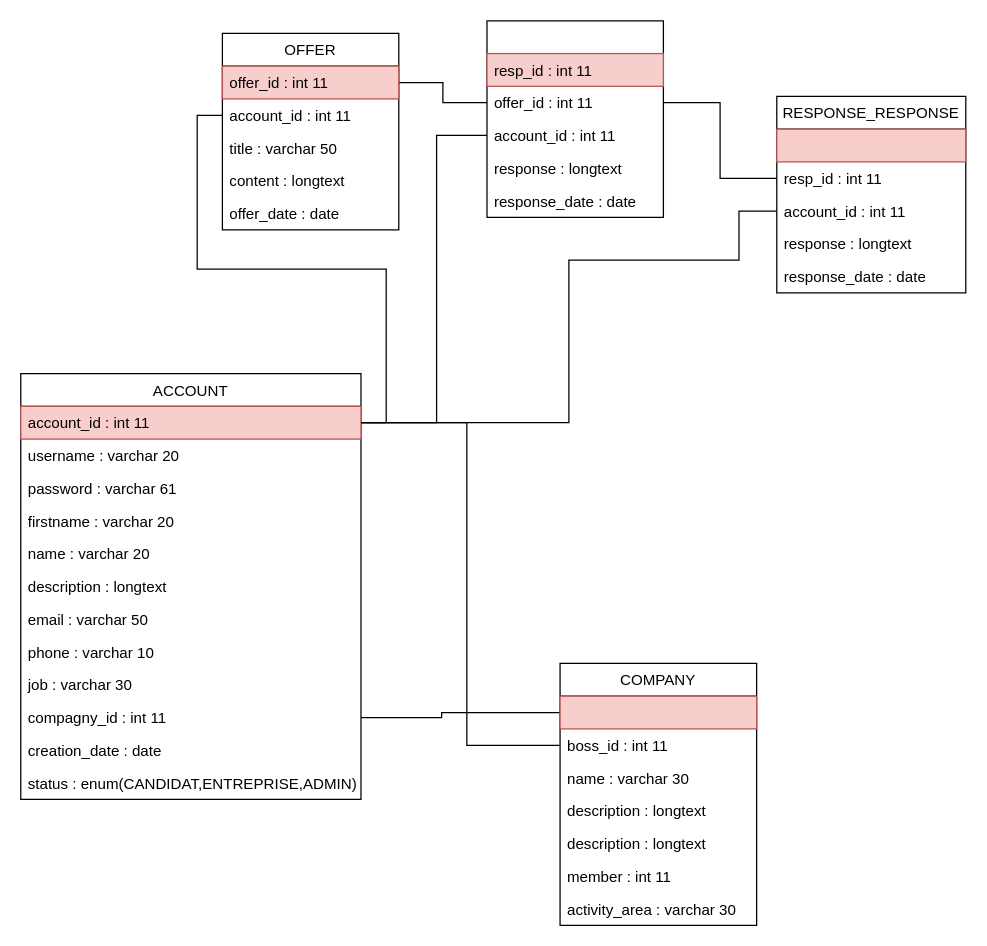
Image size: 987x946. Some labels were removed from this diagram. Each missing label, with the box of its shape:
company_id : int 11: (559, 695, 757, 729)
OFFER_RESPONSE: (486, 20, 663, 217)
resp_resp_id : int 11: (776, 128, 966, 162)
